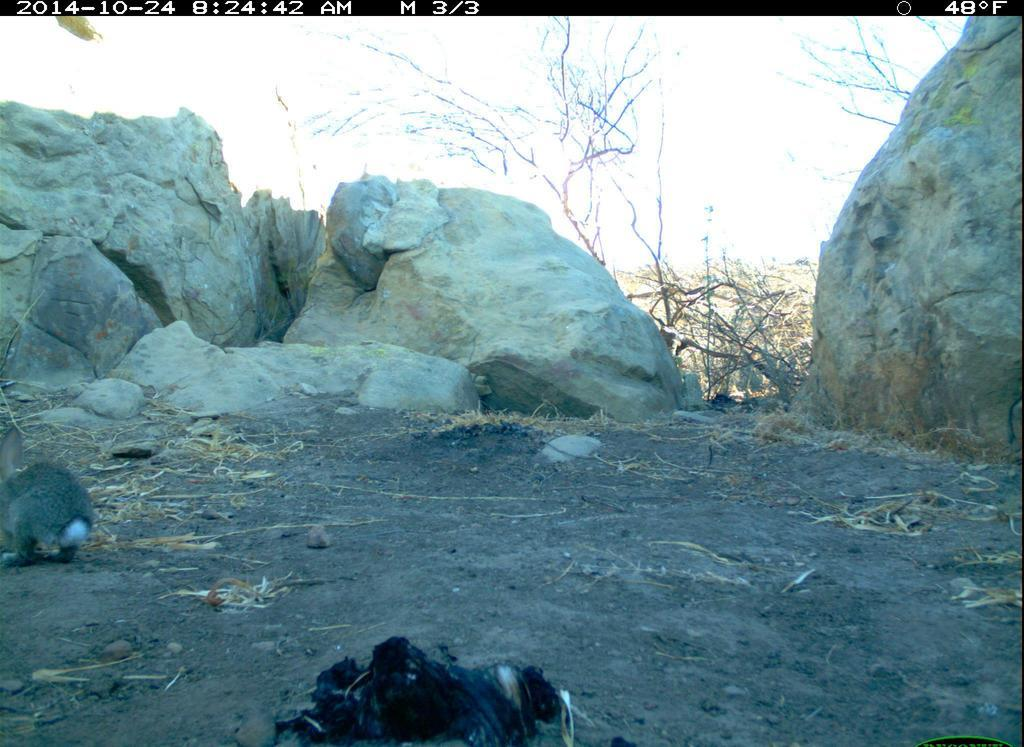rabbit: (2, 432, 105, 578)
